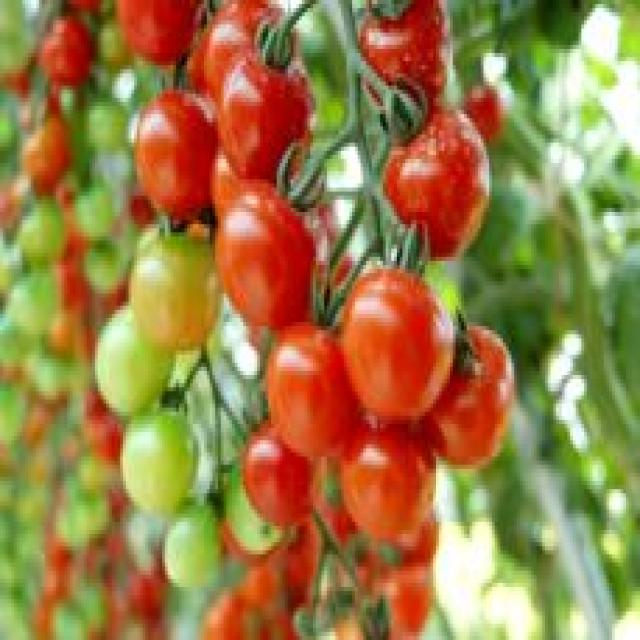level 1: (208, 469, 302, 562), (148, 495, 230, 593)
level 2: (77, 276, 190, 416), (120, 383, 204, 516)
level 3: (118, 220, 230, 352)
level 5: (249, 324, 379, 466), (343, 282, 472, 422), (202, 175, 316, 332), (182, 2, 312, 108), (138, 87, 235, 215)
level 6: (371, 103, 502, 259), (330, 414, 443, 556), (343, 0, 472, 113), (421, 312, 512, 472), (196, 61, 324, 165), (220, 422, 325, 525), (110, 1, 212, 74), (210, 140, 295, 222), (444, 68, 511, 142)
